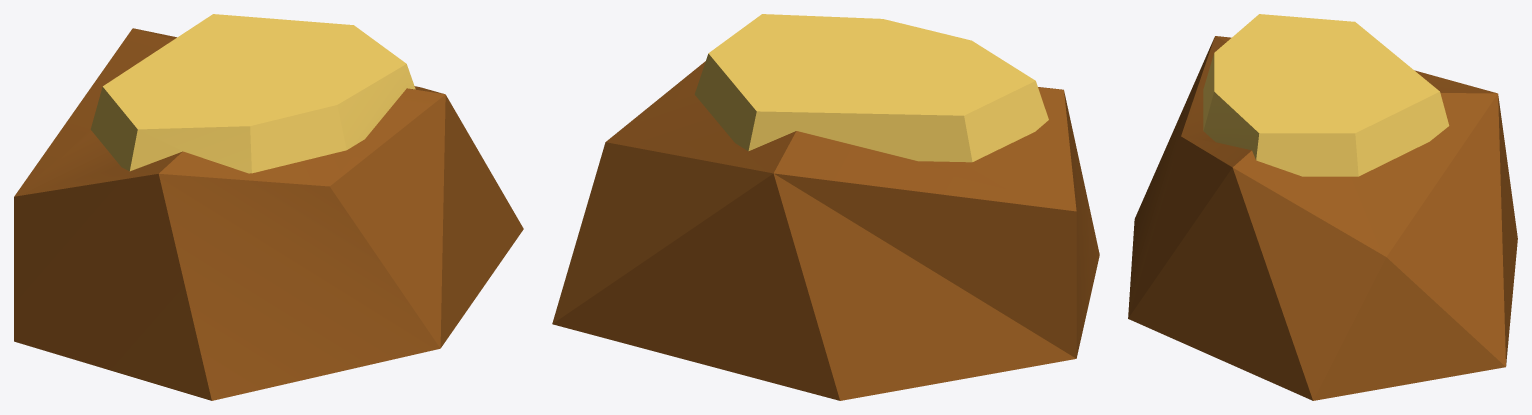
The model's file is Rock_Small_Dirt_Sand_01.fbx.
The picture shows the model from 3 angles, left to right: view 1: azimuth 30°, elevation 25°; view 2: azimuth 150°, elevation 25°; view 3: azimuth 270°, elevation 25°; orthographic projection. The views are drawn at different scales.
Visible parts, largest first — view 1: Rock_Small_Dirt_Sand_01; view 2: Rock_Small_Dirt_Sand_01; view 3: Rock_Small_Dirt_Sand_01.
Boxes of the visible parts, <box> form: Rock_Small_Dirt_Sand_01: <box>14,14,523,400</box>; Rock_Small_Dirt_Sand_01: <box>552,14,1099,400</box>; Rock_Small_Dirt_Sand_01: <box>1128,14,1517,400</box>.
Bounding box in the file's own units: 45.71 × 24.43 × 34.11.
